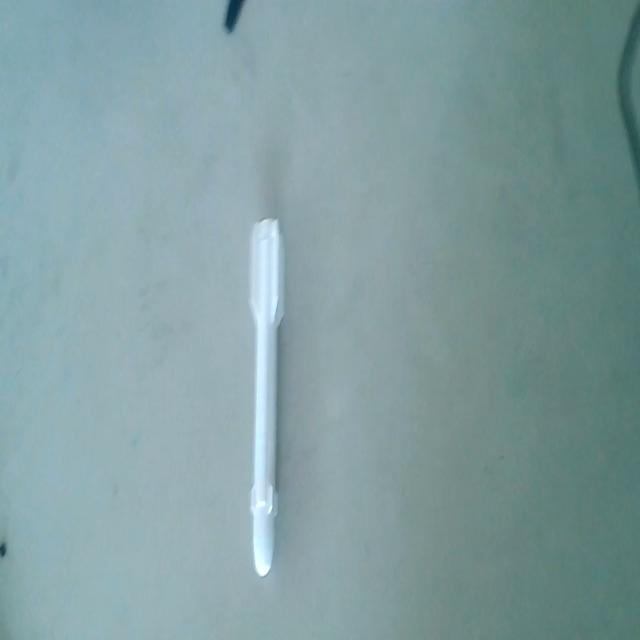Rocket: (248, 219, 286, 578)
